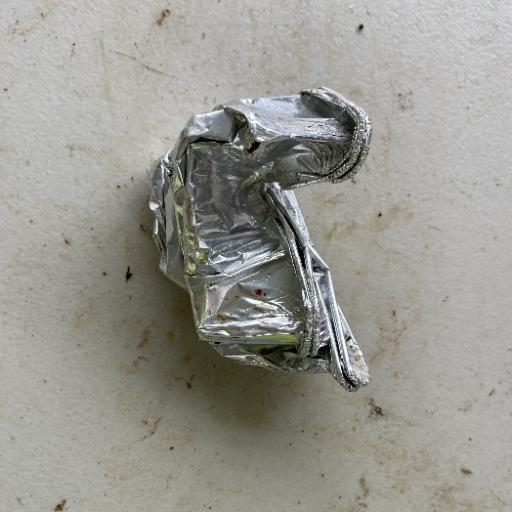Metal: (145, 84, 374, 393)
